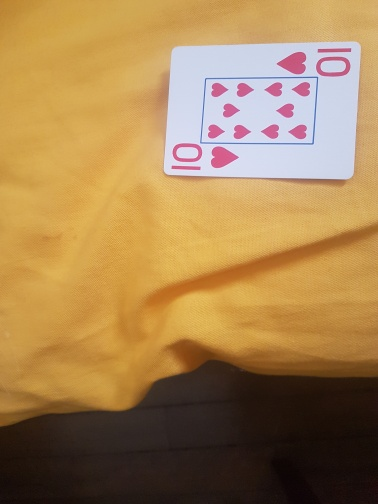ten: (163, 42, 361, 181)
